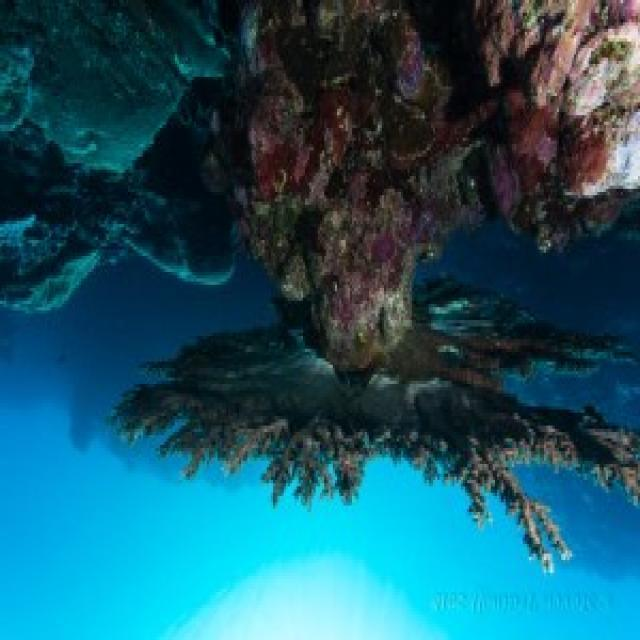Bleached: (567, 13, 637, 103), (584, 105, 640, 199), (1, 208, 41, 259)
Healthy: (107, 397, 640, 571), (246, 1, 417, 353), (418, 104, 566, 239)
